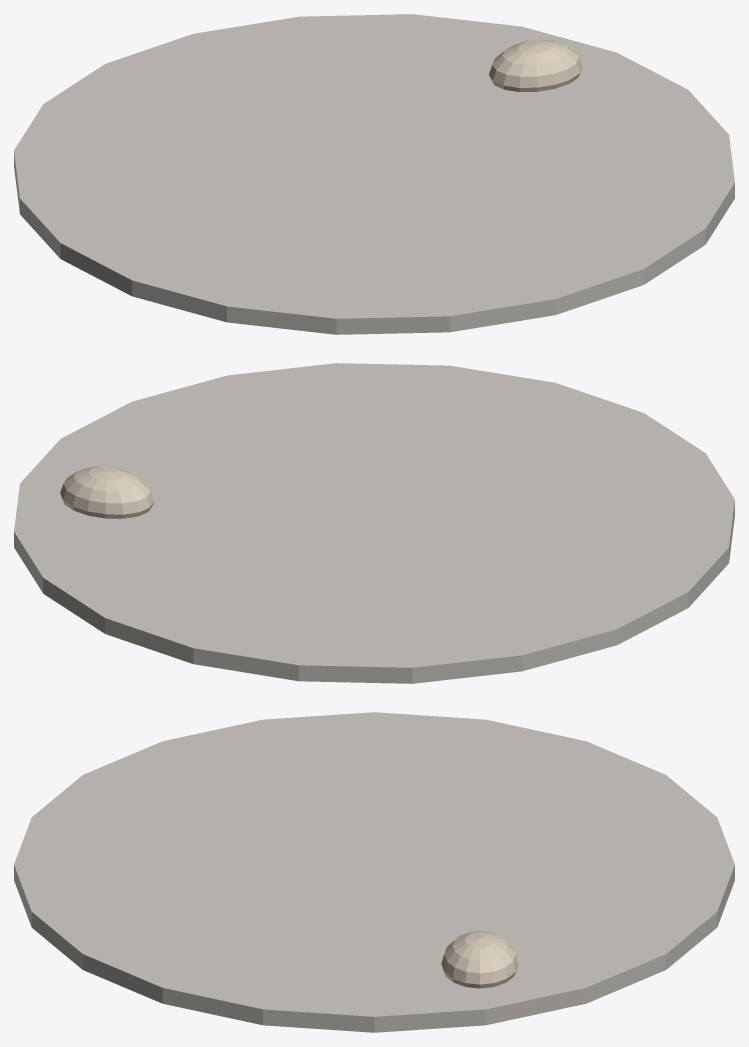
Rendered from pond_01.glb.
3 renders of one model, top to bottom at view 1: azimuth 30°, elevation 25°; view 2: azimuth 150°, elevation 25°; view 3: azimuth 270°, elevation 25°, orthographic.
Parts seen in each view (by area): view 1: ENV_pond_01_Rim, ENV_pond_01_Rock; view 2: ENV_pond_01_Rim, ENV_pond_01_Rock; view 3: ENV_pond_01_Rim, ENV_pond_01_Rock.
Boxes of the visible parts, x1,y1,x2,y2 form: ENV_pond_01_Rim: [14, 14, 734, 334]; ENV_pond_01_Rock: [489, 40, 582, 91]; ENV_pond_01_Rim: [14, 363, 734, 683]; ENV_pond_01_Rock: [60, 466, 153, 518]; ENV_pond_01_Rim: [14, 712, 734, 1032]; ENV_pond_01_Rock: [441, 931, 518, 988].
Size of the model in its own units: 4.1 by 0.35 by 4.1.
